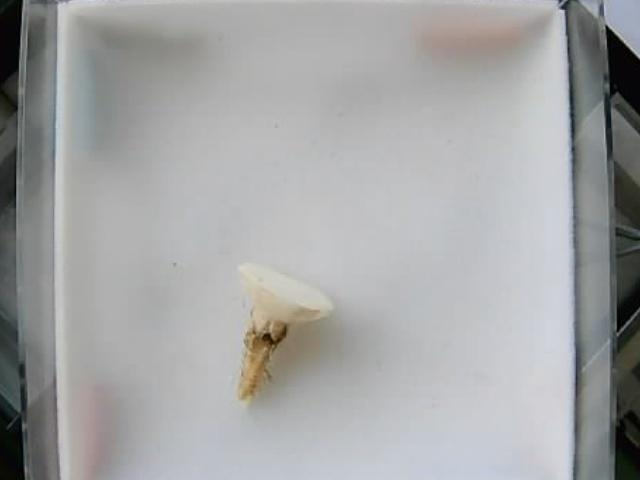Mooli: (231, 263, 331, 403)
